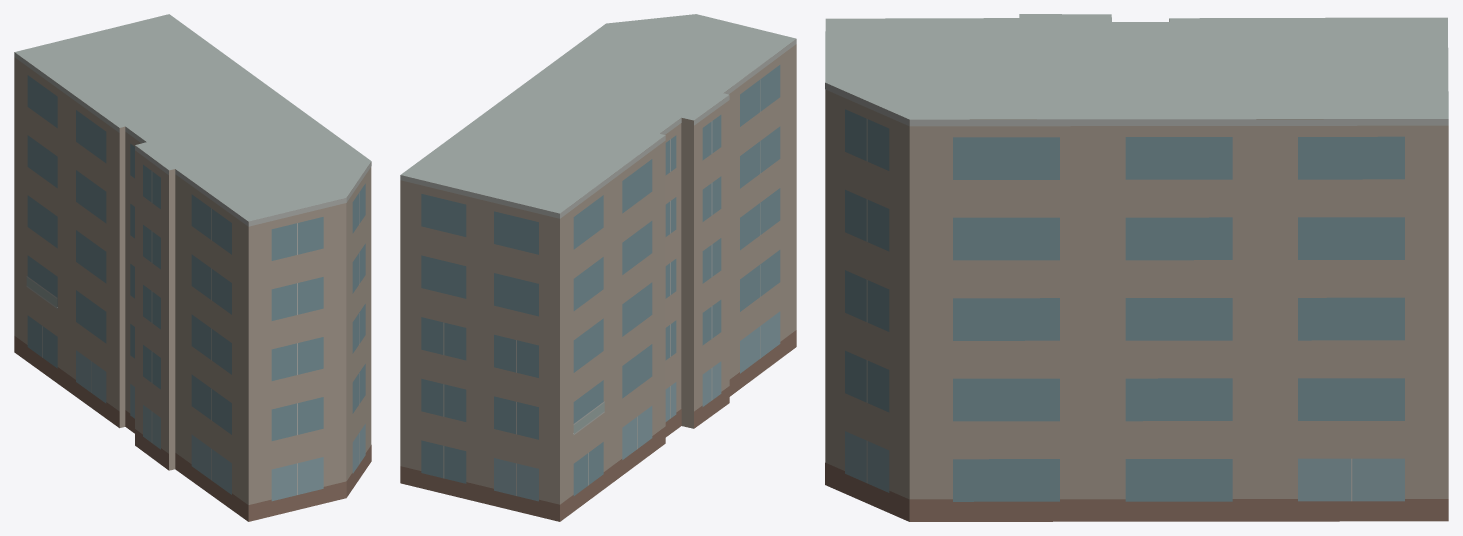
File: survey-upis-32579438.glb
3 renders of one model, left to right at view 1: azimuth 30°, elevation 25°; view 2: azimuth 150°, elevation 25°; view 3: azimuth 270°, elevation 25°, orthographic. The views are drawn at different scales.
Visible parts, largest first — view 1: survey-upis-32579438.tmp; view 2: survey-upis-32579438.tmp; view 3: survey-upis-32579438.tmp.
Boxes of the visible parts, x1,y1,x2,y2 form: survey-upis-32579438.tmp: [14, 14, 371, 521]; survey-upis-32579438.tmp: [400, 14, 796, 521]; survey-upis-32579438.tmp: [825, 14, 1448, 521].
Bounding box in the file's own units: 8.11 × 14.4 × 20.23.
